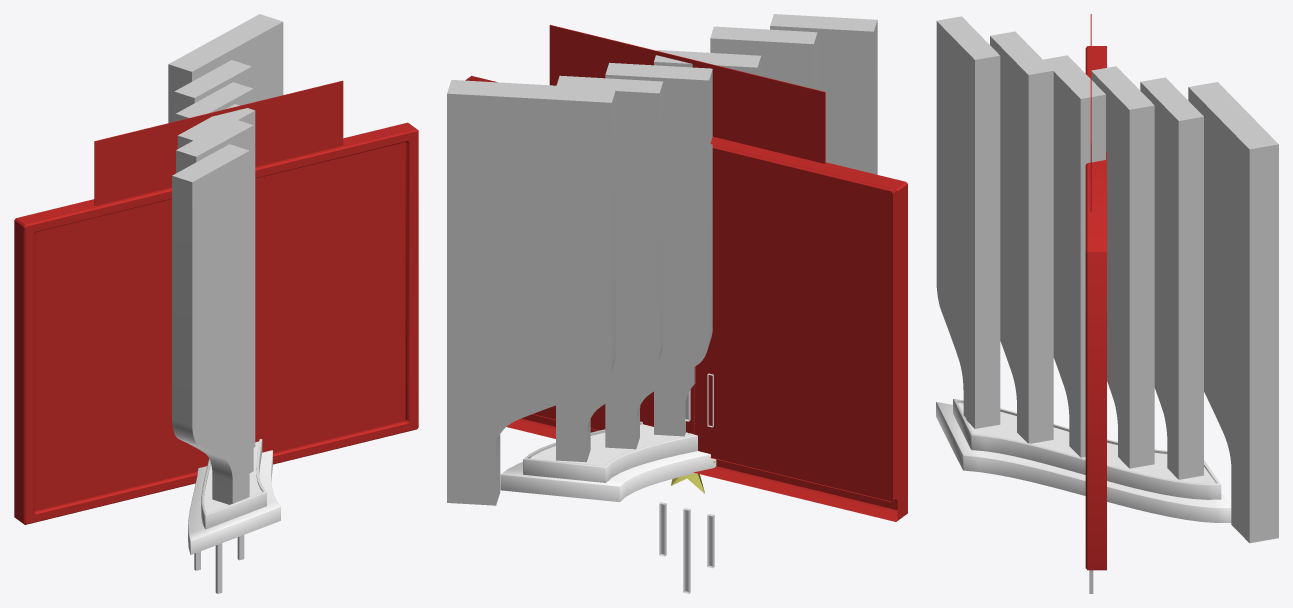
The model's file is 训词训令.fbx.
3 renders of one model, left to right at view 1: azimuth 30°, elevation 25°; view 2: azimuth 150°, elevation 25°; view 3: azimuth 270°, elevation 25°, orthographic. The views are drawn at different scales.
Parts seen in each view (by area): view 1: 13ZD_XCXL_BJQ02, Primary_1, 13ZD_BJB_002, 13ZD_XCXL_BJQ04; view 2: Primary_1, 13ZD_XCXL_BJQ02, 13ZD_BJB_002, 13ZD_XCXL_BJQ04; view 3: Primary_1, 13ZD_XCXL_BJQ02.
Part boxes in pixels (x1=…): 13ZD_XCXL_BJQ02: x1=14, y1=122, x2=418, y2=524; Primary_1: x1=168, y1=14, x2=283, y2=554; 13ZD_BJB_002: x1=94, y1=80, x2=343, y2=205; 13ZD_XCXL_BJQ04: x1=194, y1=535, x2=244, y2=593; Primary_1: x1=447, y1=14, x2=877, y2=505; 13ZD_XCXL_BJQ02: x1=465, y1=76, x2=907, y2=521; 13ZD_BJB_002: x1=549, y1=25, x2=825, y2=163; 13ZD_XCXL_BJQ04: x1=659, y1=373, x2=715, y2=593; Primary_1: x1=936, y1=16, x2=1278, y2=543; 13ZD_XCXL_BJQ02: x1=1085, y1=46, x2=1106, y2=570.
Bounding box in the file's own units: 4.72 × 5.57 × 3.32.
